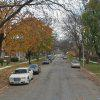Car: (9, 58, 43, 90)
